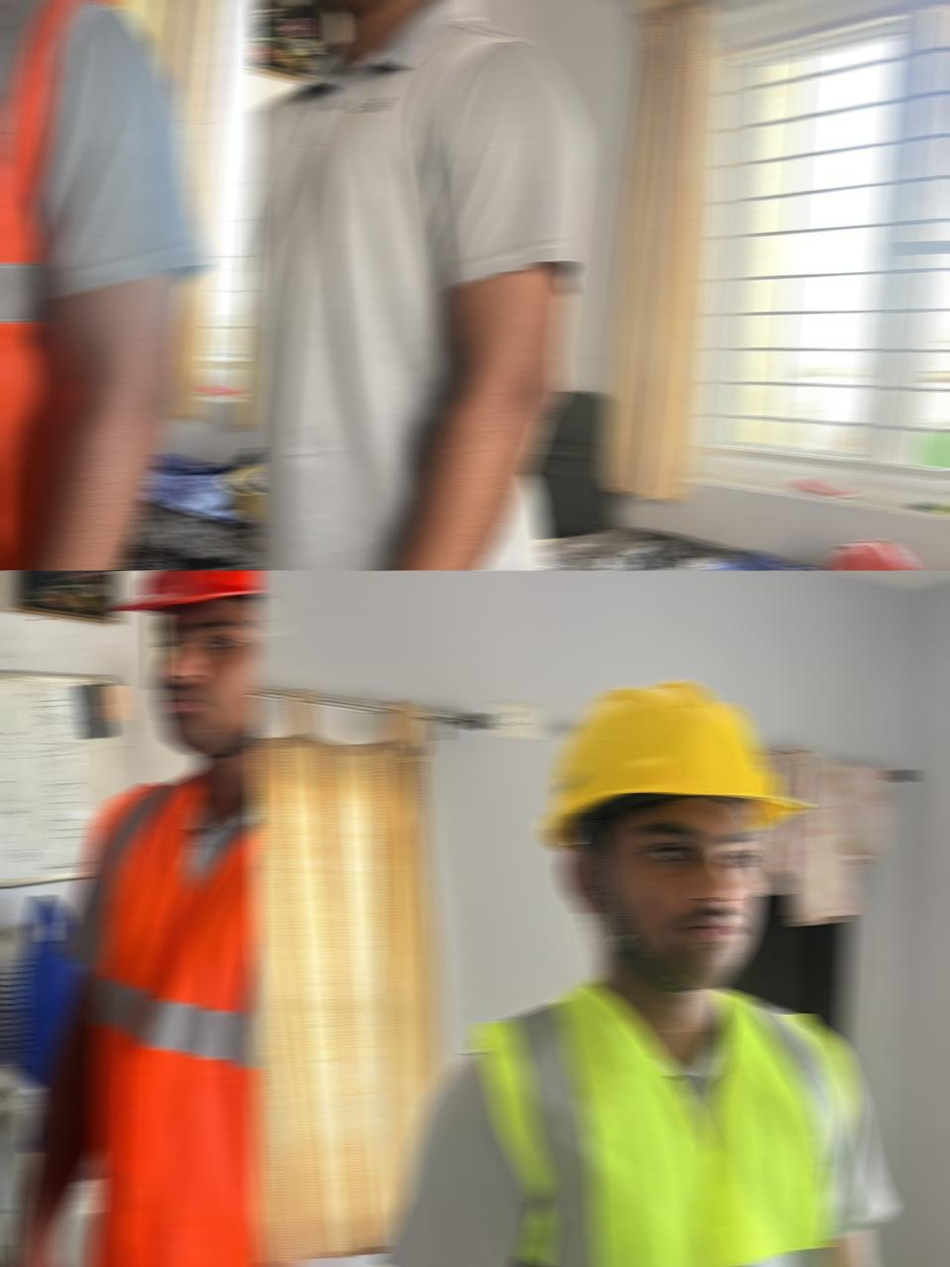Helmet: (539, 679, 810, 993), (116, 570, 260, 625)
No_Vest: (252, 0, 589, 570)
Person: (375, 679, 896, 1267), (252, 0, 589, 570), (0, 570, 260, 1267), (0, 0, 212, 570)
Vest: (470, 981, 855, 1267), (87, 749, 260, 1267), (0, 0, 118, 570)
